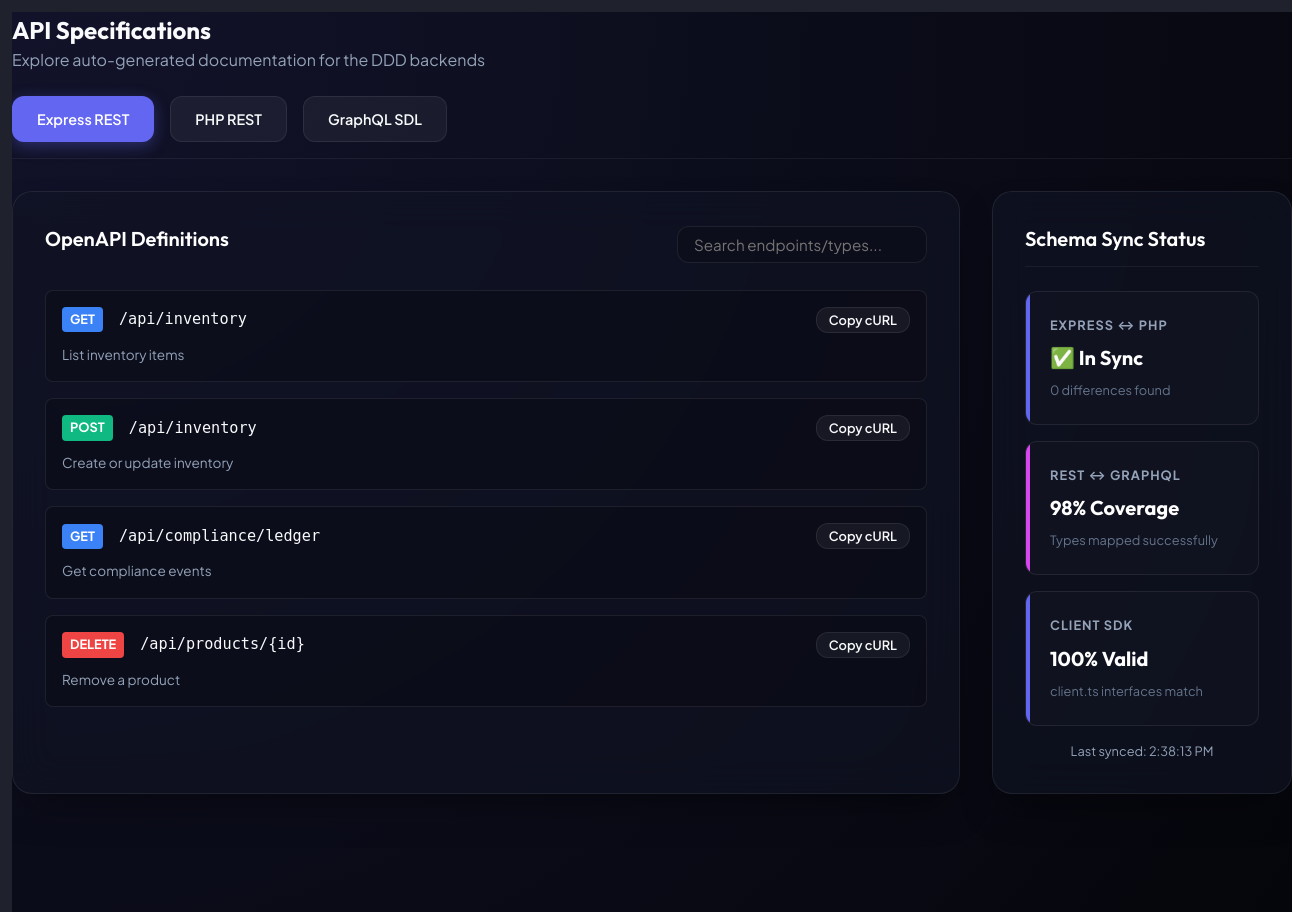
Test: ApiSpecViewerPanel › shows a message when no endpoints match the search query
The image size is (1292, 912).
Type "nonexistentendpointquery123" into the field with placeholder "Search endpoints/types..." at (802,245), box [677, 226, 927, 263]
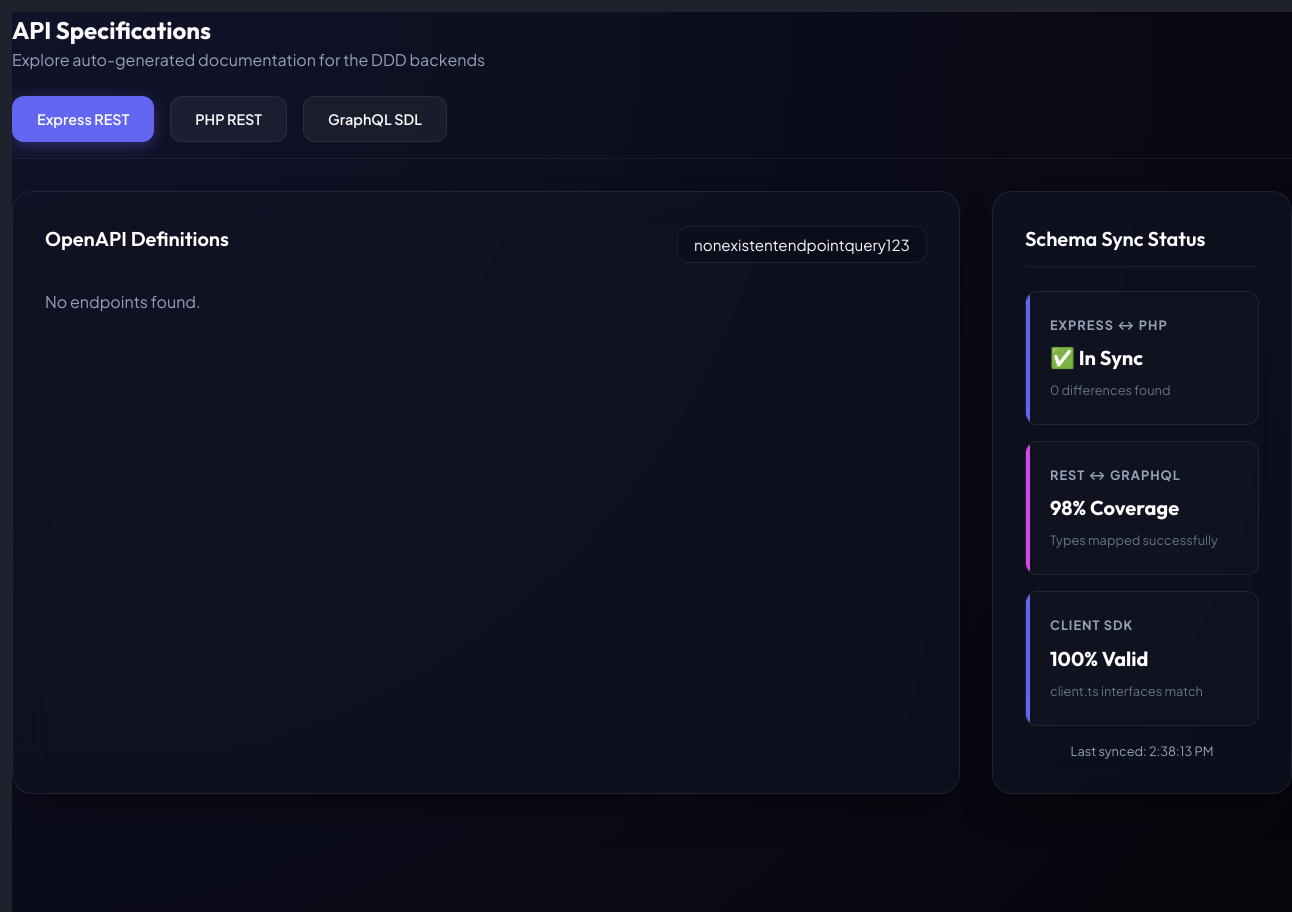
Now the text "No endpoints found." is shown, box [45, 291, 201, 312]
